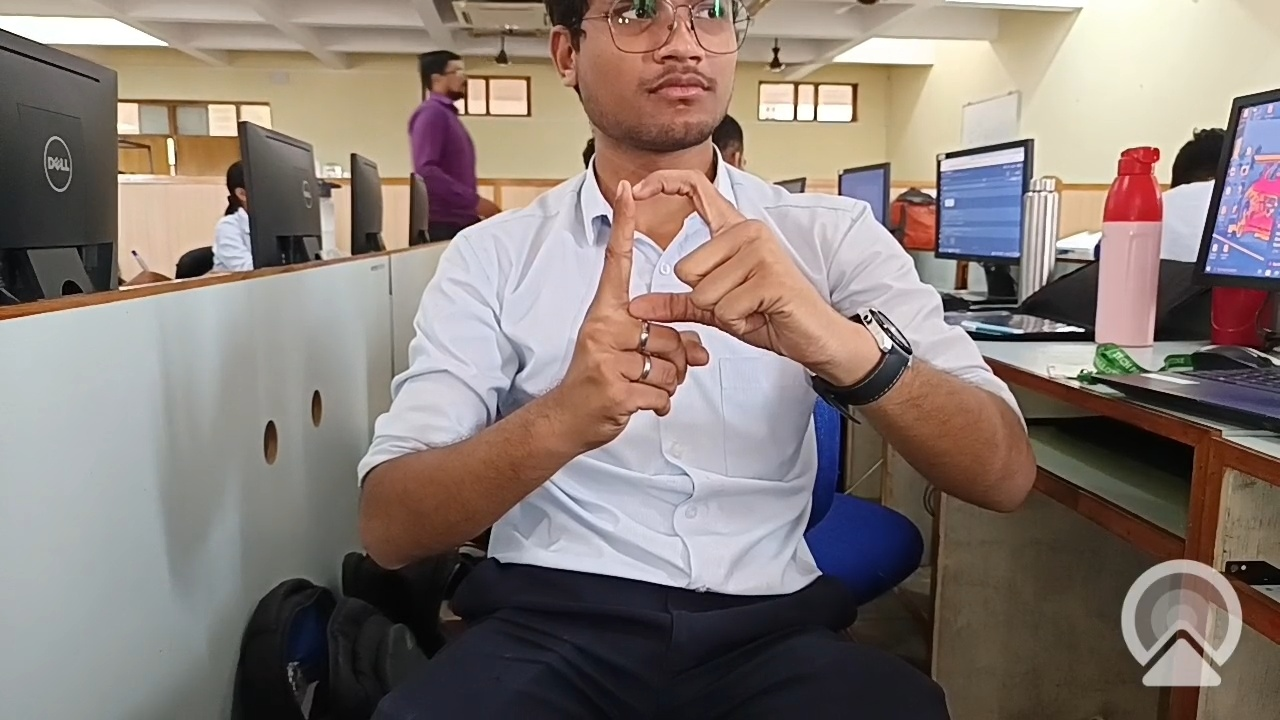D: (585, 164, 845, 366)
